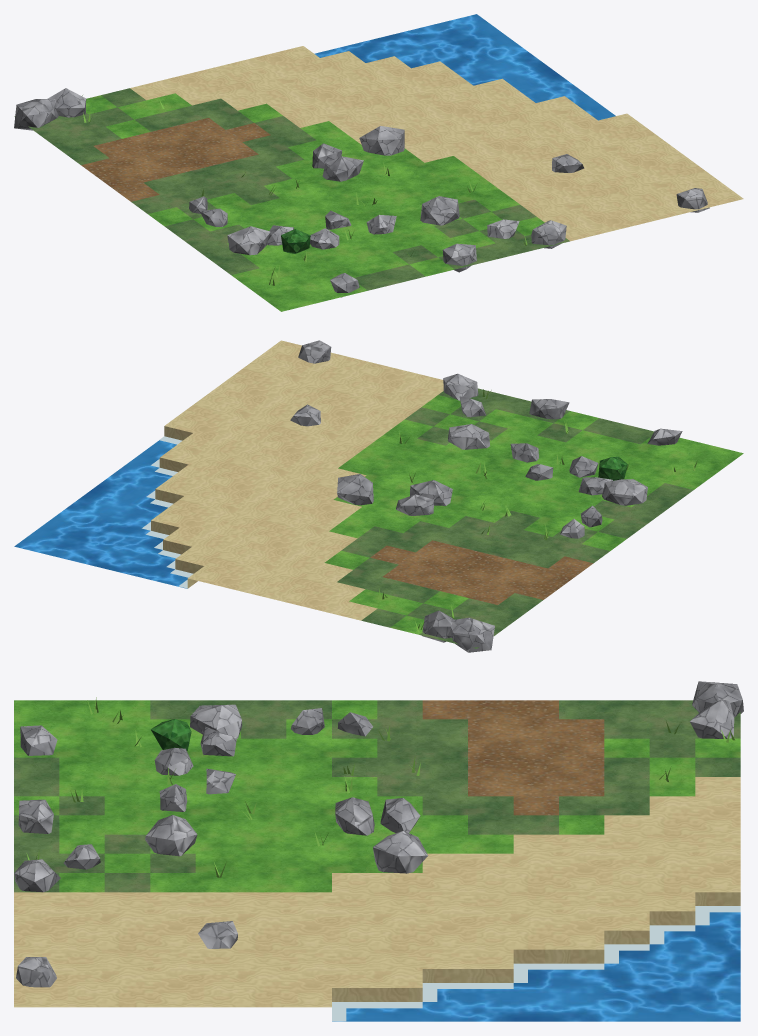
Rendered from chunk_11_15.glb.
3 views of the same model, one above another, from view 1: azimuth 30°, elevation 25°; view 2: azimuth 150°, elevation 25°; view 3: azimuth 270°, elevation 25° (orthographic). The views are drawn at different scales.
Visible parts, largest first — view 1: chunk_11_15; view 2: chunk_11_15; view 3: chunk_11_15.
Boxes of the visible parts, x1,y1,x2,y2 form: chunk_11_15: (14, 14, 743, 311); chunk_11_15: (14, 340, 743, 652); chunk_11_15: (14, 681, 743, 1021).
Bounding box in the file's own units: 16.26 × 1.21 × 16.07.
Materials: 9 (7 with a texture image).
